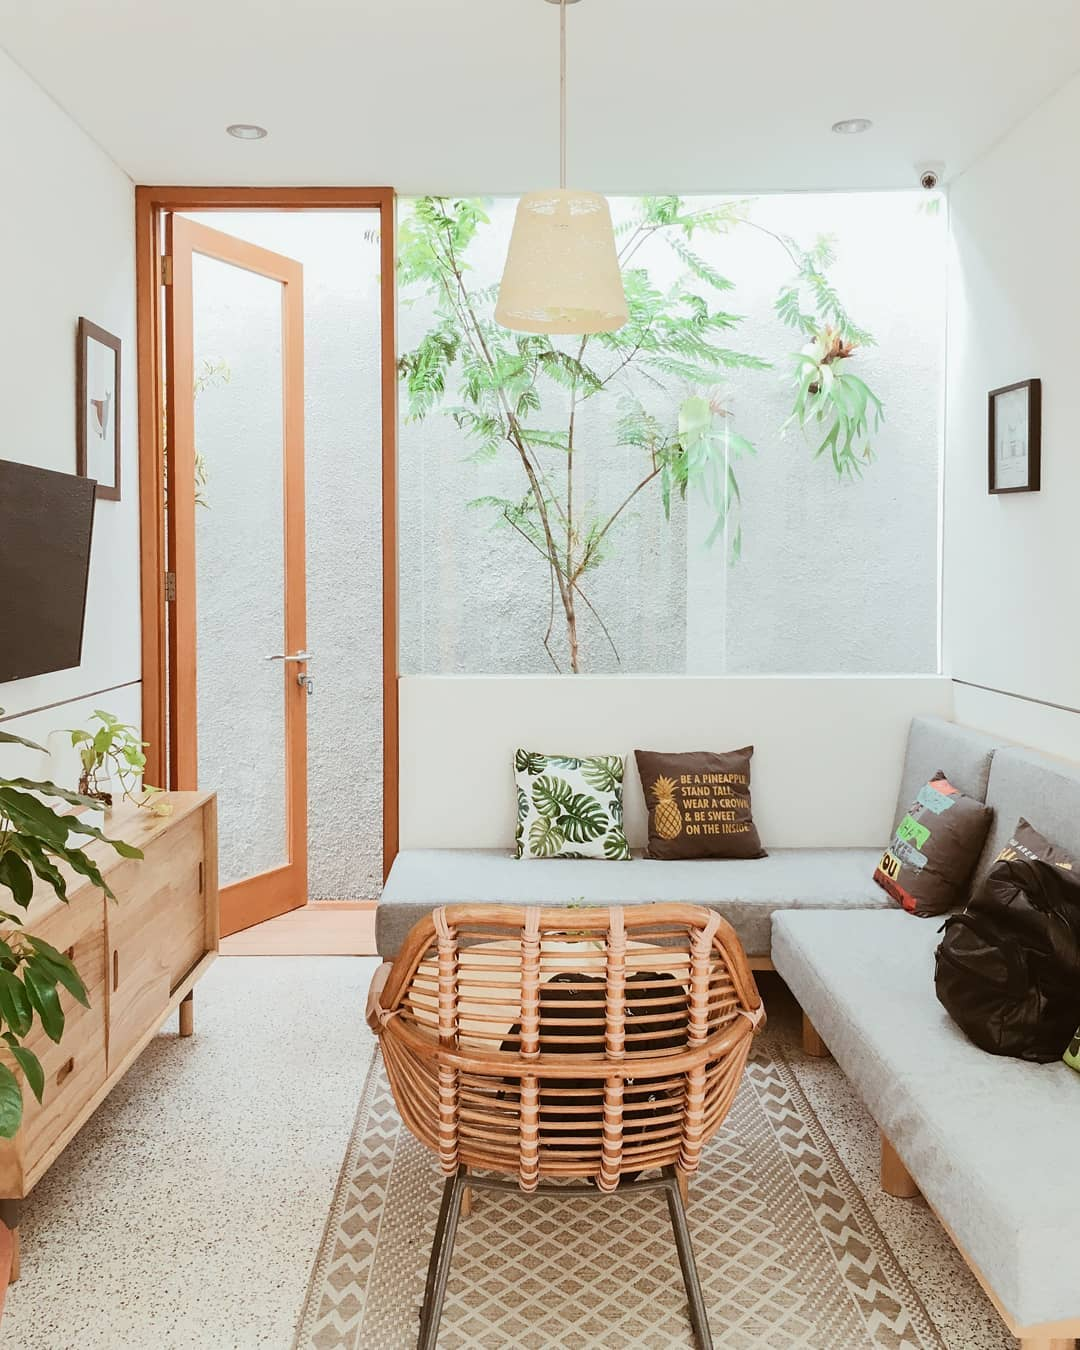Bantal: (865, 768, 992, 932), (631, 735, 768, 874), (507, 738, 635, 871)
Foto: (65, 301, 134, 507), (971, 374, 1056, 510)
Sova: (769, 712, 1080, 1350), (372, 665, 969, 995)
TV: (1, 450, 99, 685)
Tanaman: (406, 201, 890, 665), (4, 741, 114, 1195)
lampu: (489, 169, 633, 342)
